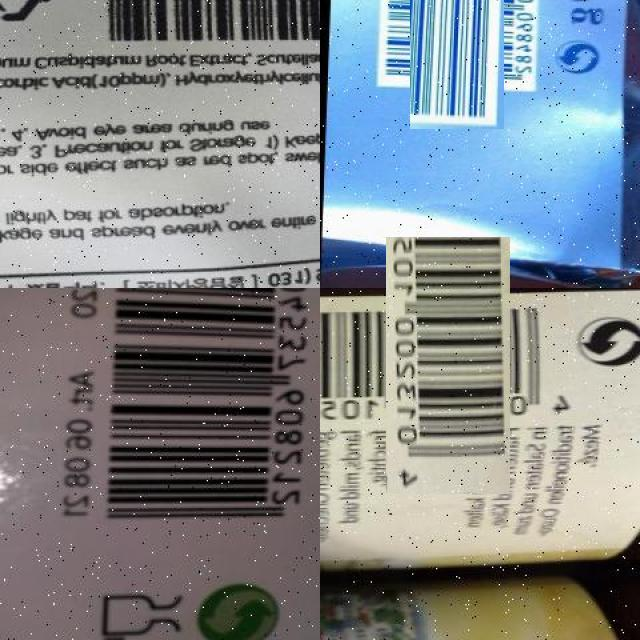Barcode: (93, 288, 320, 543), (353, 270, 544, 461), (392, 0, 522, 112), (75, 0, 321, 50)
